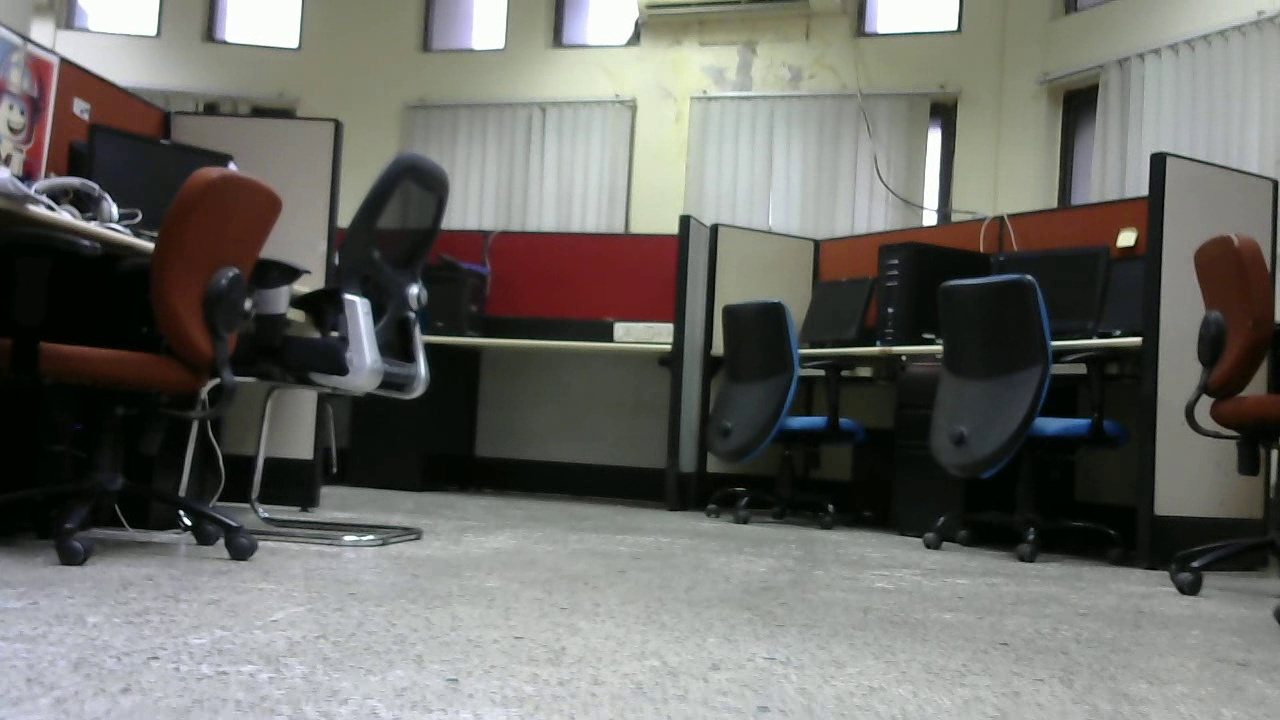chair: (21, 168, 292, 561), (272, 148, 454, 541), (906, 274, 1129, 568), (674, 301, 877, 528)
